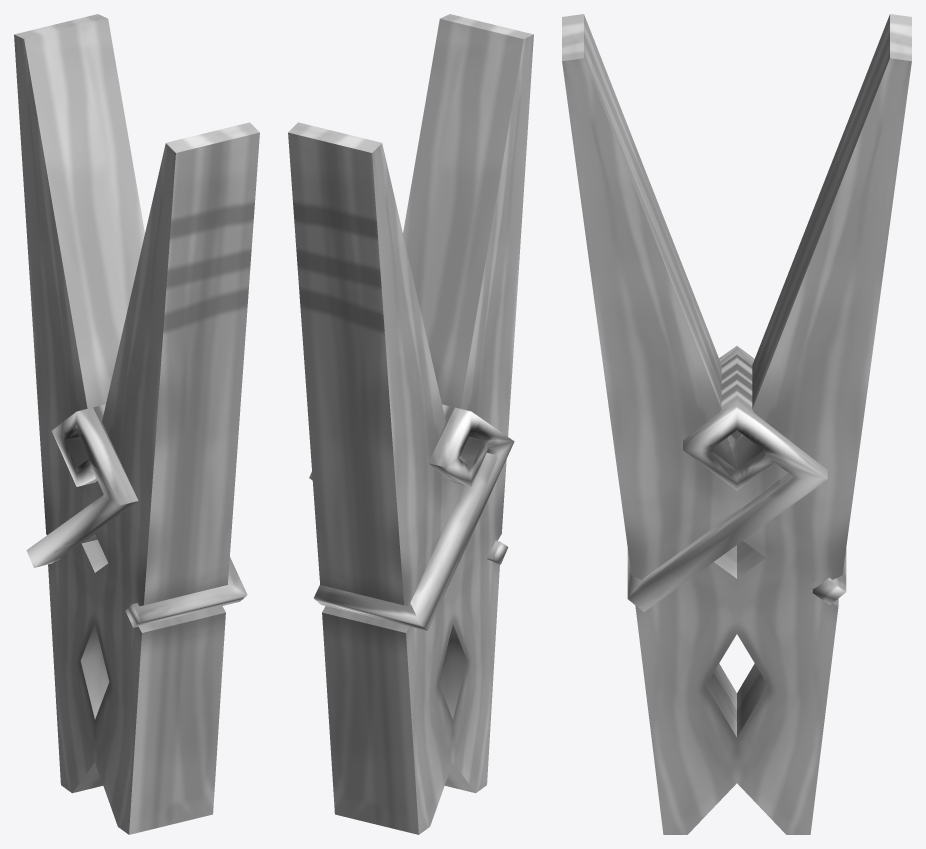
File: obj_ClothesPin.fbx
3 views of the same model, side by side, from view 1: azimuth 30°, elevation 25°; view 2: azimuth 150°, elevation 25°; view 3: azimuth 270°, elevation 25° (orthographic). The views are drawn at different scales.
Parts seen in each view (by area): view 1: obj_ClothesPin, obj_ClothesPin.001; view 2: obj_ClothesPin.001, obj_ClothesPin; view 3: obj_ClothesPin, obj_ClothesPin.001.
Boxes of the visible parts, bbox=[...] form: obj_ClothesPin: bbox=[93, 122, 259, 834]; obj_ClothesPin.001: bbox=[14, 14, 144, 793]; obj_ClothesPin.001: bbox=[288, 122, 514, 834]; obj_ClothesPin: bbox=[309, 14, 533, 793]; obj_ClothesPin: bbox=[562, 14, 827, 834]; obj_ClothesPin.001: bbox=[719, 14, 911, 834].
Bounding box in the file's own units: 0.0275 × 0.1563 × 0.0638.
1 material, 1 textured.
